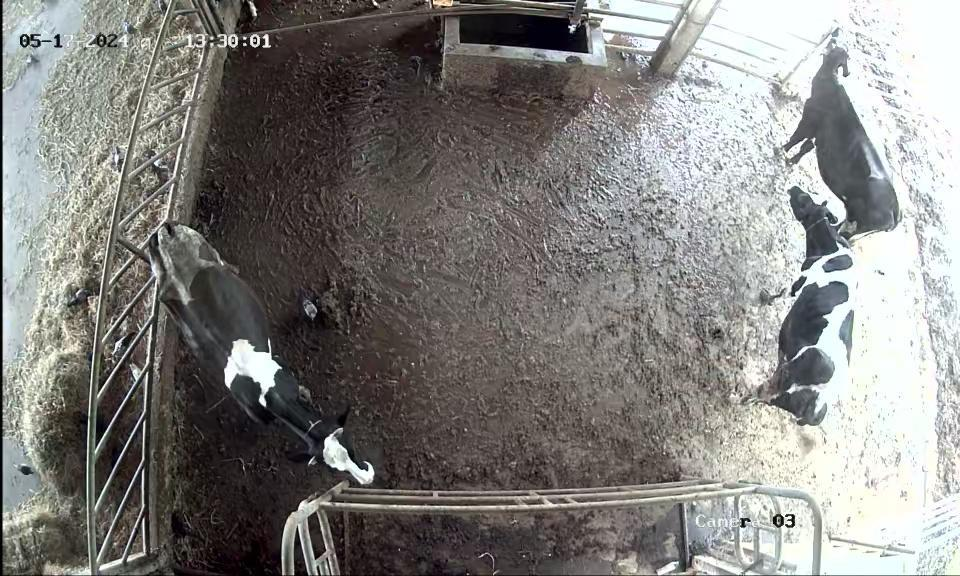stand: (138, 214, 385, 493), (734, 181, 862, 441), (779, 38, 902, 238)
